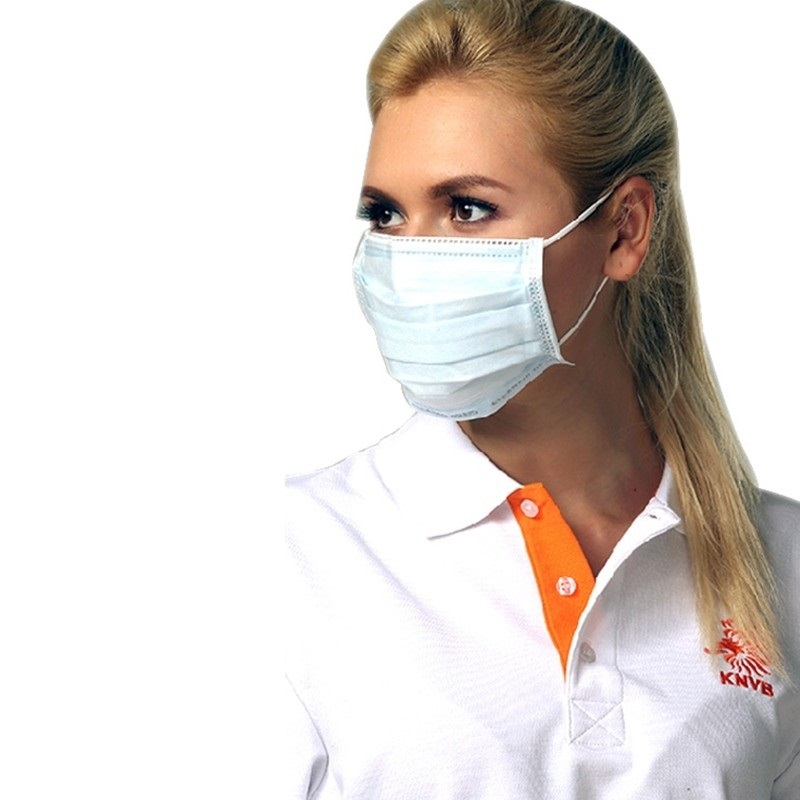face_mask: (360, 78, 587, 404)
